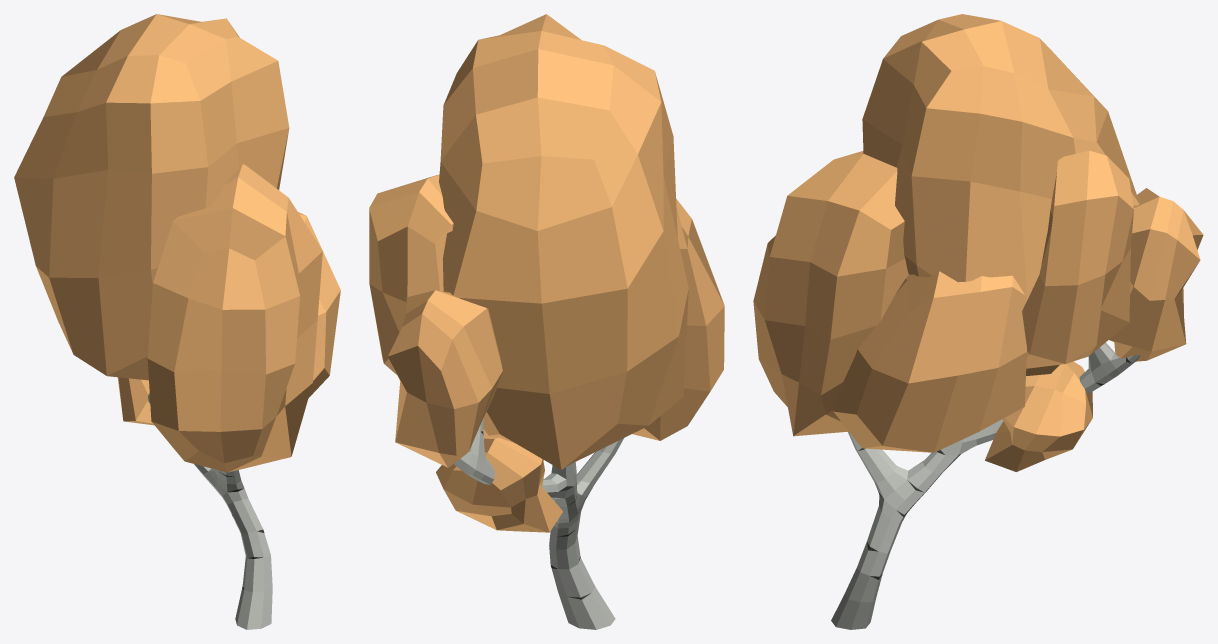
The model's file is BirchTreeAutumn1.fbx.
The picture shows the model from 3 angles, left to right: view 1: azimuth 30°, elevation 25°; view 2: azimuth 150°, elevation 25°; view 3: azimuth 270°, elevation 25°; orthographic projection. The views are drawn at different scales.
Parts seen in each view (by area): view 1: BirchTree_Autumn_1_Cube.001, BirchTree_Autumn_1_Cube.097; view 2: BirchTree_Autumn_1_Cube.001, BirchTree_Autumn_1_Cube.097; view 3: BirchTree_Autumn_1_Cube.001, BirchTree_Autumn_1_Cube.097.
Boxes of the visible parts, x1,y1,x2,y2 form: BirchTree_Autumn_1_Cube.001: (14,14,340,472); BirchTree_Autumn_1_Cube.097: (148,393,272,629); BirchTree_Autumn_1_Cube.001: (369,14,724,532); BirchTree_Autumn_1_Cube.097: (454,418,623,629); BirchTree_Autumn_1_Cube.001: (753,14,1203,471); BirchTree_Autumn_1_Cube.097: (831,342,1140,629).
Size of the model in its own units: 170 by 357 by 248.
